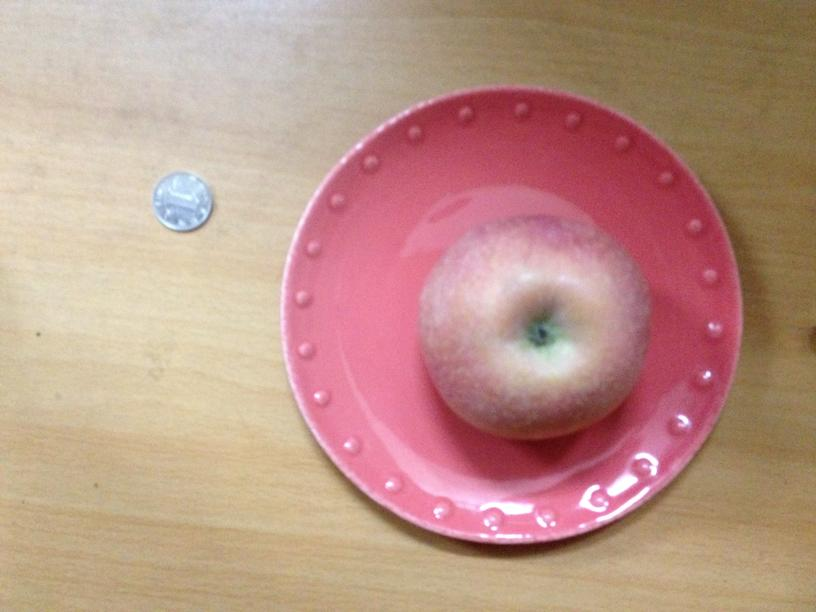apple: (415, 216, 650, 440)
coin: (151, 171, 212, 231)
